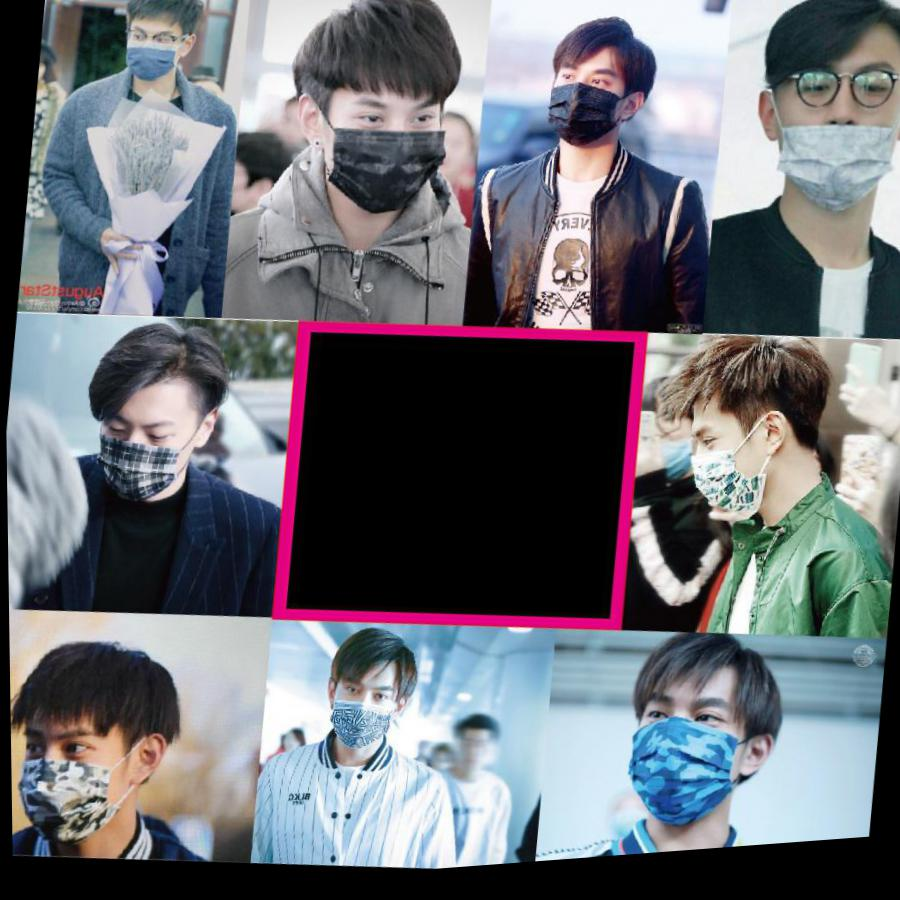OK: (596, 681, 755, 847), (317, 80, 451, 221), (9, 710, 134, 852), (664, 414, 781, 537), (93, 396, 204, 512), (535, 55, 634, 158), (325, 672, 406, 757), (120, 21, 184, 88)
WRONG: (755, 50, 900, 224), (629, 406, 697, 491)
